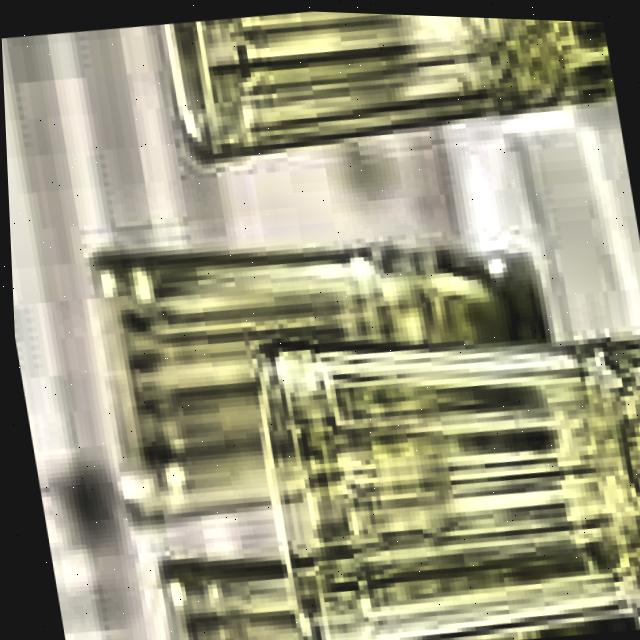glass: (257, 329, 640, 640), (161, 9, 614, 162)
